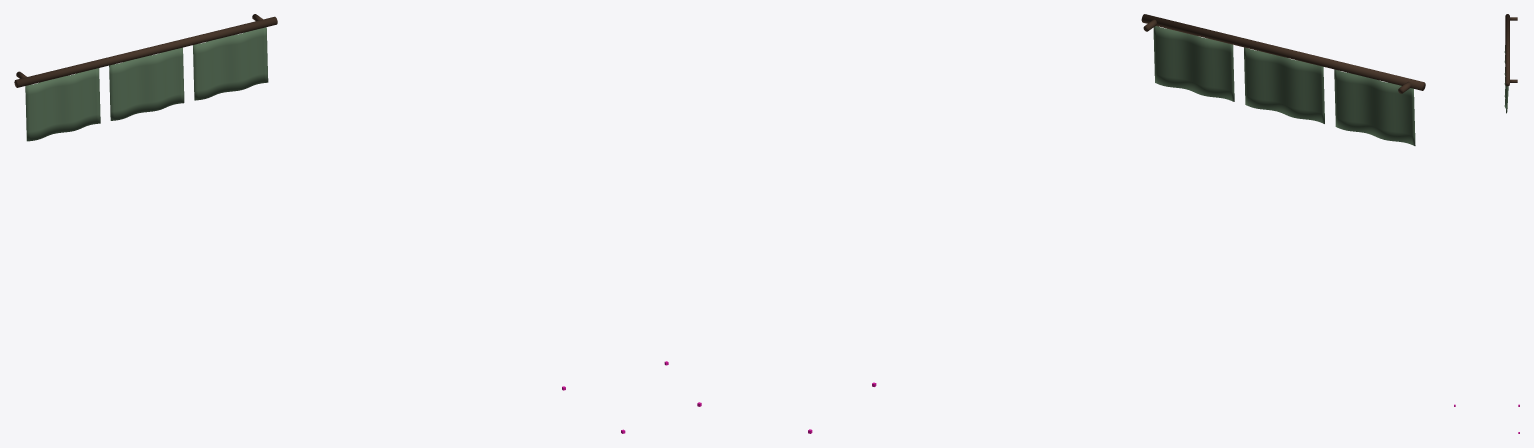
Rendered from japan_kit33_grocer_curtain1.fbx.
3 views of the same model, side by side, from view 1: azimuth 30°, elevation 25°; view 2: azimuth 150°, elevation 25°; view 3: azimuth 270°, elevation 25° (orthographic). The views are drawn at different scales.
Parts seen in each view (by area): view 1: GC1_Cloth_Sage, GC1_Rail_Timber; view 2: GC1_Cloth_Sage, GC1_Rail_Timber; view 3: GC1_Rail_Timber, GC1_Cloth_Sage.
Boxes of the visible parts, <box> form: GC1_Cloth_Sage: <box>25,27,268,141</box>; GC1_Rail_Timber: <box>14,16,277,87</box>; GC1_Cloth_Sage: <box>1153,26,1415,145</box>; GC1_Rail_Timber: <box>1141,14,1425,90</box>; GC1_Rail_Timber: <box>1505,14,1509,86</box>; GC1_Cloth_Sage: <box>1504,45,1508,113</box>.
Size of the model in its own units: 12.9 by 8.45 by 2.05.
